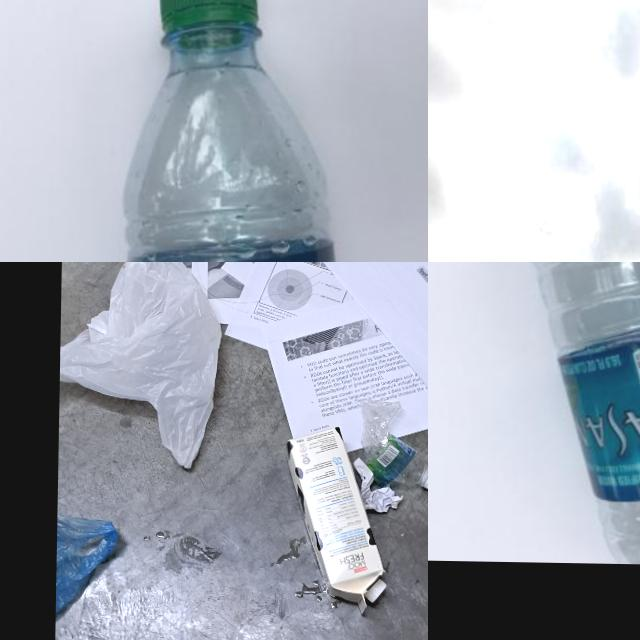caixinha: (284, 422, 391, 612)
garrafa plástica: (117, 29, 359, 262), (517, 262, 640, 566), (359, 394, 428, 493)
papel: (160, 262, 428, 452), (350, 454, 403, 512)
sacola plástica: (58, 262, 222, 470), (56, 512, 124, 626)
tampa plástica: (156, 0, 262, 54), (363, 576, 388, 605), (421, 462, 428, 489)
